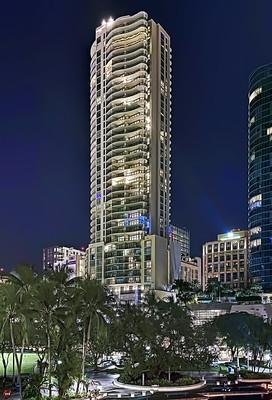building: (78, 9, 177, 304)
